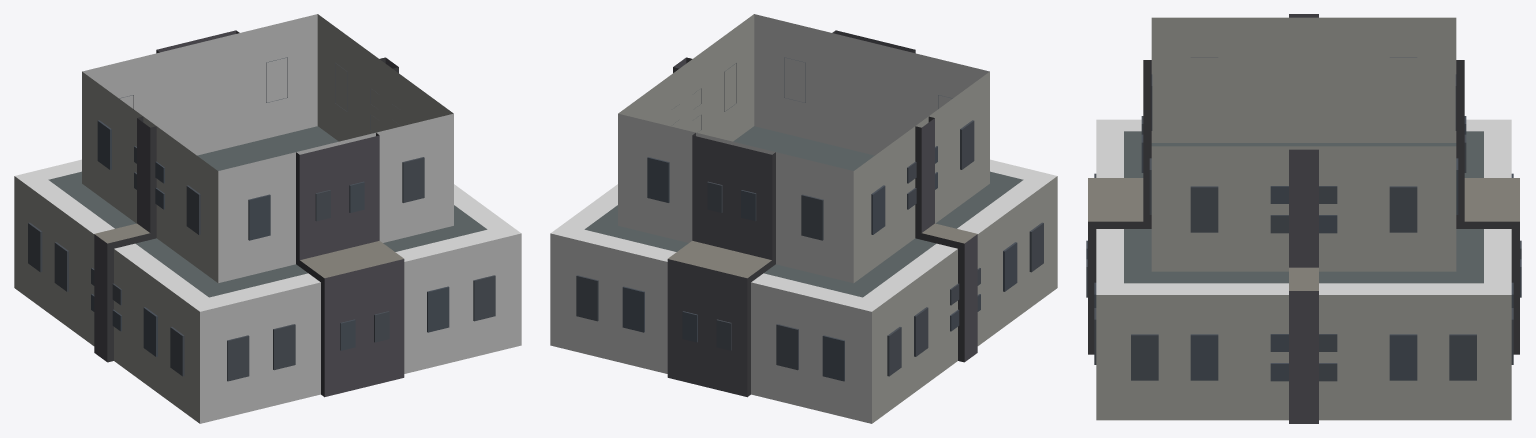
Rendered from TB_CITY_Skysc_Q_Mid_Top_Gray.FBX.
The picture shows the model from 3 angles, left to right: view 1: azimuth 30°, elevation 25°; view 2: azimuth 150°, elevation 25°; view 3: azimuth 270°, elevation 25°; orthographic projection. The views are drawn at different scales.
Parts seen in each view (by area): view 1: TB_CITY_Skysc_Q_Mid_Top_Gray; view 2: TB_CITY_Skysc_Q_Mid_Top_Gray; view 3: TB_CITY_Skysc_Q_Mid_Top_Gray.
Part boxes in pixels (box(x1,y1,x2,y2)): TB_CITY_Skysc_Q_Mid_Top_Gray: box(14, 14, 521, 423); TB_CITY_Skysc_Q_Mid_Top_Gray: box(550, 14, 1057, 423); TB_CITY_Skysc_Q_Mid_Top_Gray: box(1086, 14, 1521, 423).
Size of the model in its own units: 15.6 by 10 by 15.73.
